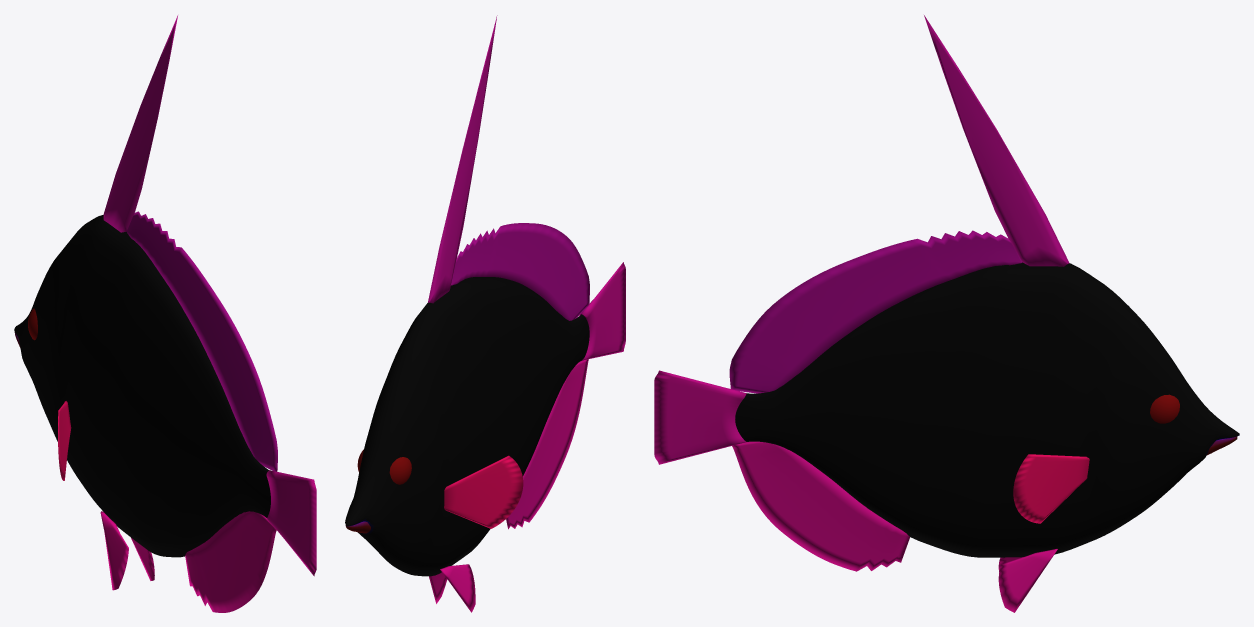
Rendered from butterflyfish_bannerfish.glb.
3 renders of one model, left to right at view 1: azimuth 30°, elevation 25°; view 2: azimuth 150°, elevation 25°; view 3: azimuth 270°, elevation 25°, orthographic. The views are drawn at different scales.
Visible parts, largest first — view 1: butterflyfish_bannerfish; view 2: butterflyfish_bannerfish; view 3: butterflyfish_bannerfish.
Part boxes in pixels (bbox=[...]): butterflyfish_bannerfish: bbox=[14, 15, 316, 612]; butterflyfish_bannerfish: bbox=[345, 15, 625, 612]; butterflyfish_bannerfish: bbox=[654, 15, 1239, 612].
Bounding box in the file's own units: 0.0511 × 0.2002 × 0.18.
